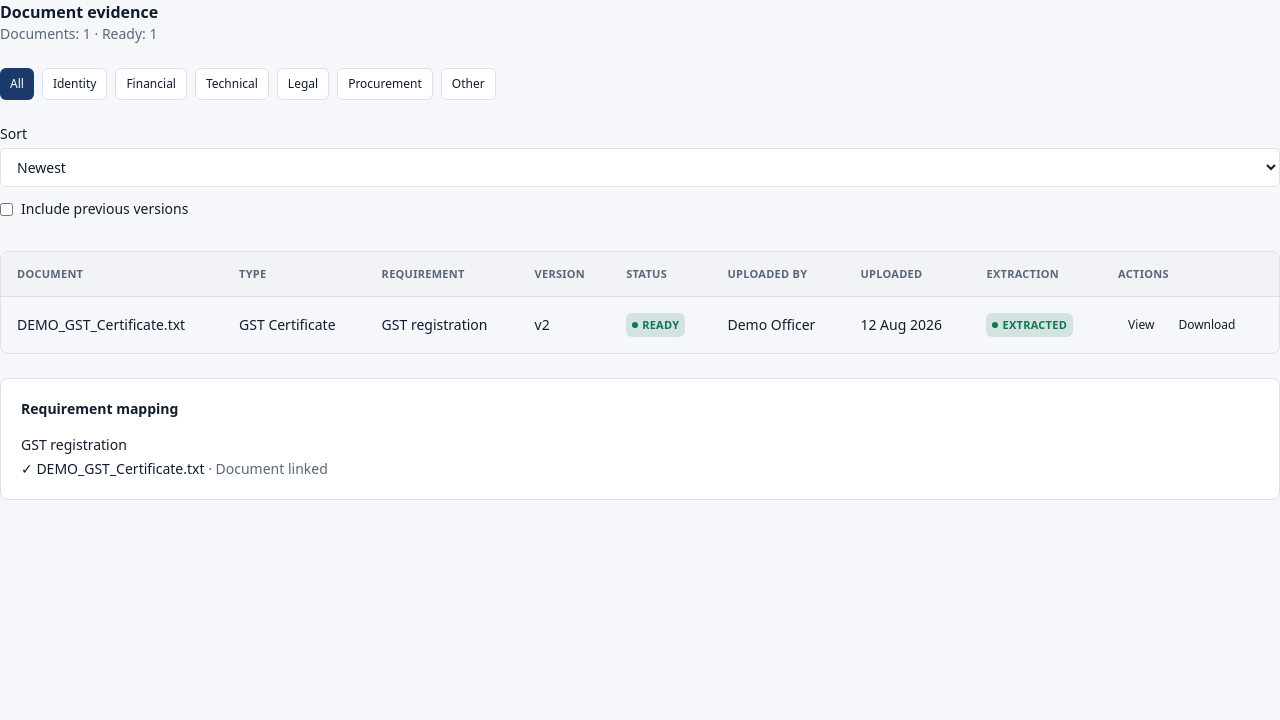
Test: BidDocumentsPanel › hides mutation actions for reviewers
The width and height of the screenshot is (1280, 720).
Check: the text "DEMO_GST_Certificate.txt" is shown, box [1, 296, 223, 353]
Check: the button "Archive" is not shown
Click the button "View" at x=1141, y=325, box [1118, 309, 1164, 341]
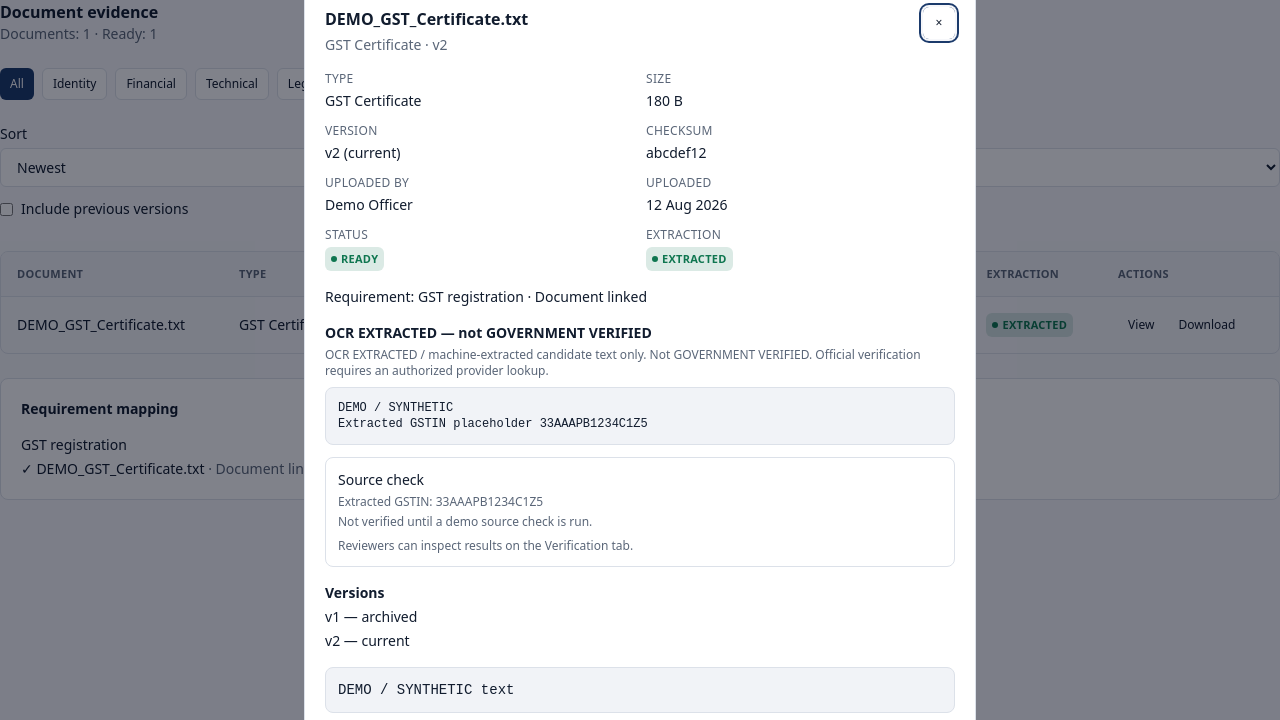
Check: the text "Reviewers can inspect results on the Verification tab." is shown, box [338, 537, 633, 554]
